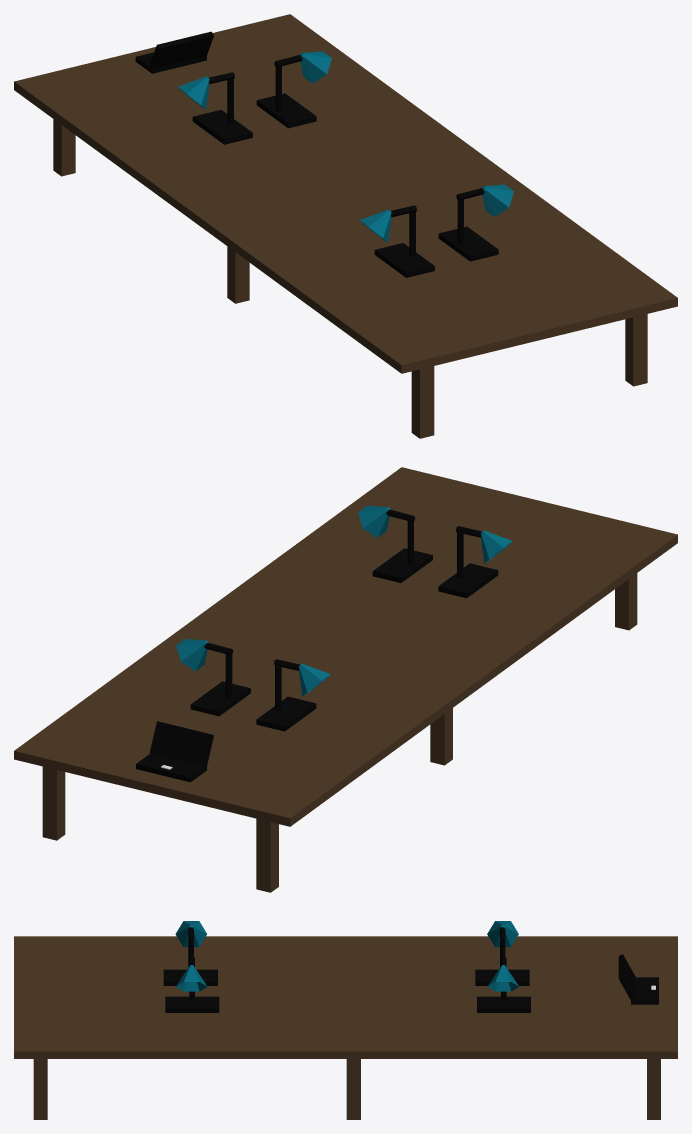
File: MesaGrande.fbx
3 renders of one model, top to bottom at view 1: azimuth 30°, elevation 25°; view 2: azimuth 150°, elevation 25°; view 3: azimuth 270°, elevation 25°, orthographic. The views are drawn at different scales.
Parts seen in each view (by area): view 1: tabla, pata arriba der.002, pata abajo iz.001, base lampara.005, base lampara.002, base lampara.001, base lampara.003, base lampara, pata arriba der, pata arriba der.001, pantalla lampara, pantalla lampara.003; view 2: tabla, base lampara.005, pata abajo der, pata arriba der, base lampara.001, base lampara.002, base lampara.004, base lampara.003, base lampara, pata arriba der.002, pata arriba der.001, pantalla lampara (+1 smaller); view 3: tabla, pata abajo iz, pata abajo iz.001, base lampara.003, base lampara, pata abajo der, base lampara.004, base lampara.001, base lampara.002, pantalla lampara.001, pantalla lampara.002, base lampara.005 (+2 smaller).
Boxes of the visible parts, x1,y1,x2,y2 form: tabla: (14, 14, 677, 373); pata arriba der.002: (411, 366, 434, 438); pata abajo iz.001: (625, 314, 647, 386); base lampara.005: (149, 31, 213, 68); base lampara.002: (374, 243, 434, 277); base lampara.001: (192, 109, 252, 144); base lampara.003: (438, 226, 498, 261); base lampara: (256, 93, 316, 128); pata arriba der: (53, 119, 75, 176); pata arriba der.001: (227, 246, 249, 303); pantalla lampara: (300, 51, 331, 83); pantalla lampara.003: (482, 184, 513, 216); tabla: (14, 467, 677, 826); base lampara.005: (149, 721, 213, 766); pata abajo der: (42, 766, 65, 840); pata arriba der: (256, 818, 278, 892); base lampara.001: (256, 696, 316, 731); base lampara.002: (438, 563, 498, 598); base lampara.004: (136, 753, 206, 782); base lampara.003: (372, 548, 432, 582); base lampara: (190, 681, 250, 716); pata arriba der.002: (615, 573, 637, 630); pata arriba der.001: (430, 708, 452, 765); pantalla lampara: (176, 639, 208, 671); tabla: (14, 936, 677, 1058); pata abajo iz: (346, 1059, 360, 1119); pata abajo iz.001: (33, 1059, 47, 1119); base lampara.003: (165, 996, 219, 1012); base lampara: (477, 996, 530, 1012); pata abajo der: (647, 1059, 660, 1119); base lampara.004: (631, 977, 658, 1004); base lampara.001: (475, 969, 529, 985); base lampara.002: (163, 969, 217, 985); pantalla lampara.001: (487, 921, 518, 947); pantalla lampara.002: (175, 921, 206, 947); base lampara.005: (618, 954, 635, 1001).
Bounding box in the file's own units: 12.33 × 6.24 × 29.98.
15 materials, 4 textured.
